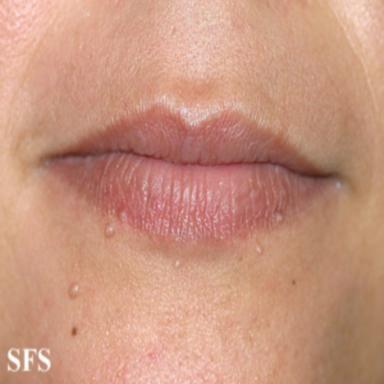Molluscum-Contagiosum: (68, 284, 79, 298), (104, 224, 115, 237), (118, 209, 127, 223), (275, 212, 283, 223), (256, 245, 262, 254), (175, 261, 180, 267)
